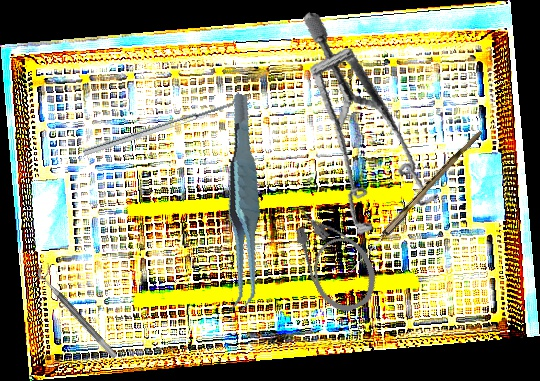Cannula: (283, 192, 386, 320)
Fixation Ring: (34, 261, 125, 360)
Spatula Surgical: (80, 92, 243, 156)
Speculum: (267, 11, 465, 247)
Surgical Spoon: (347, 127, 483, 276)
Tissue Forceps: (189, 92, 296, 315)
